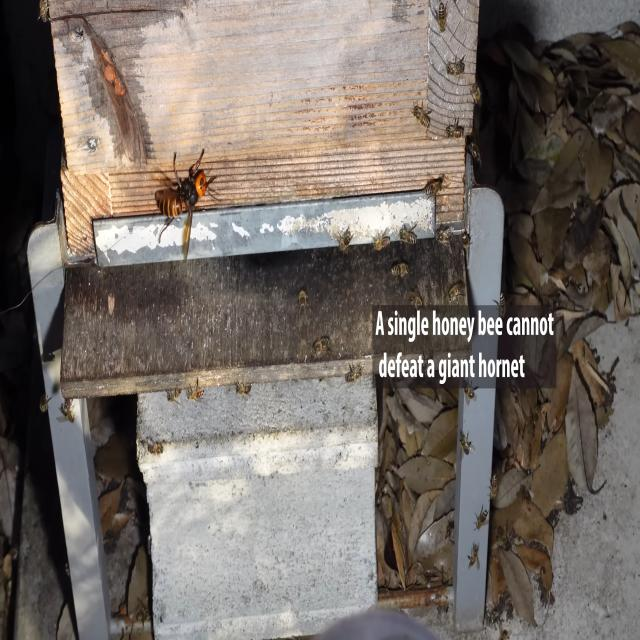Bees: (408, 98, 432, 130), (421, 171, 444, 200), (443, 49, 466, 77), (343, 362, 366, 388), (335, 225, 355, 254), (441, 117, 465, 141), (396, 221, 418, 247), (444, 280, 466, 306), (433, 1, 450, 34), (432, 224, 453, 250), (369, 228, 391, 252), (459, 428, 475, 461), (473, 502, 490, 533), (185, 376, 205, 402), (310, 337, 332, 360), (232, 376, 254, 398), (466, 540, 481, 571), (56, 402, 75, 426), (469, 78, 482, 112), (163, 385, 183, 406), (144, 439, 166, 458), (390, 262, 409, 282), (460, 224, 472, 252), (488, 472, 497, 502)
Hornets: (154, 145, 222, 262)
